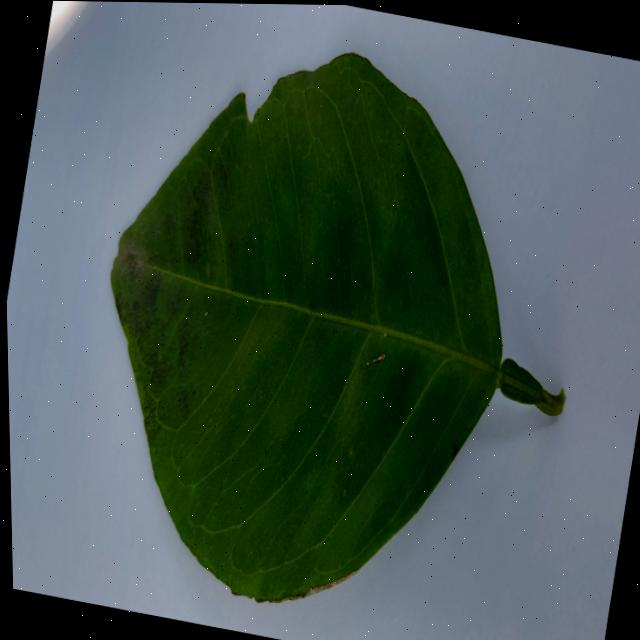greening: (110, 56, 563, 599)
